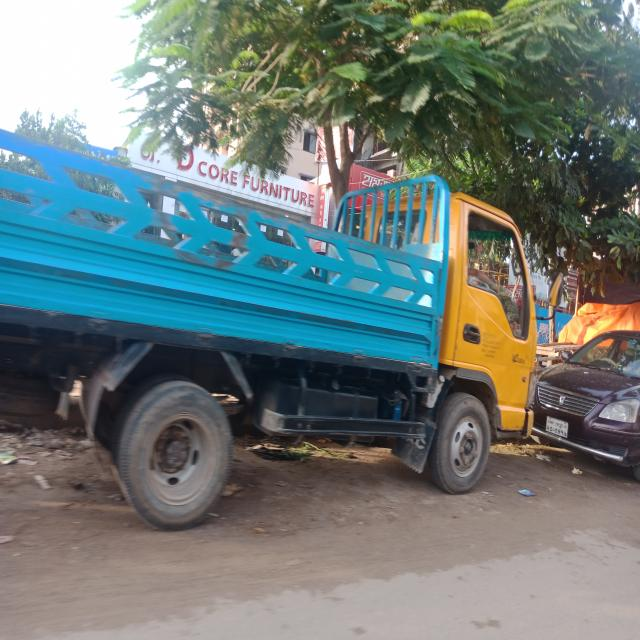truck: (0, 128, 563, 533)
